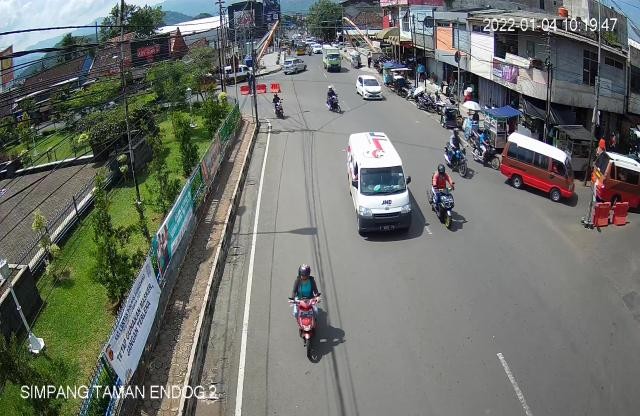Mobil: (341, 130, 420, 242), (501, 130, 577, 210), (591, 142, 640, 220), (356, 71, 385, 105)
Motor: (290, 261, 324, 362), (425, 162, 462, 233), (472, 124, 502, 174), (442, 128, 472, 177), (321, 84, 346, 116), (272, 90, 290, 121)
